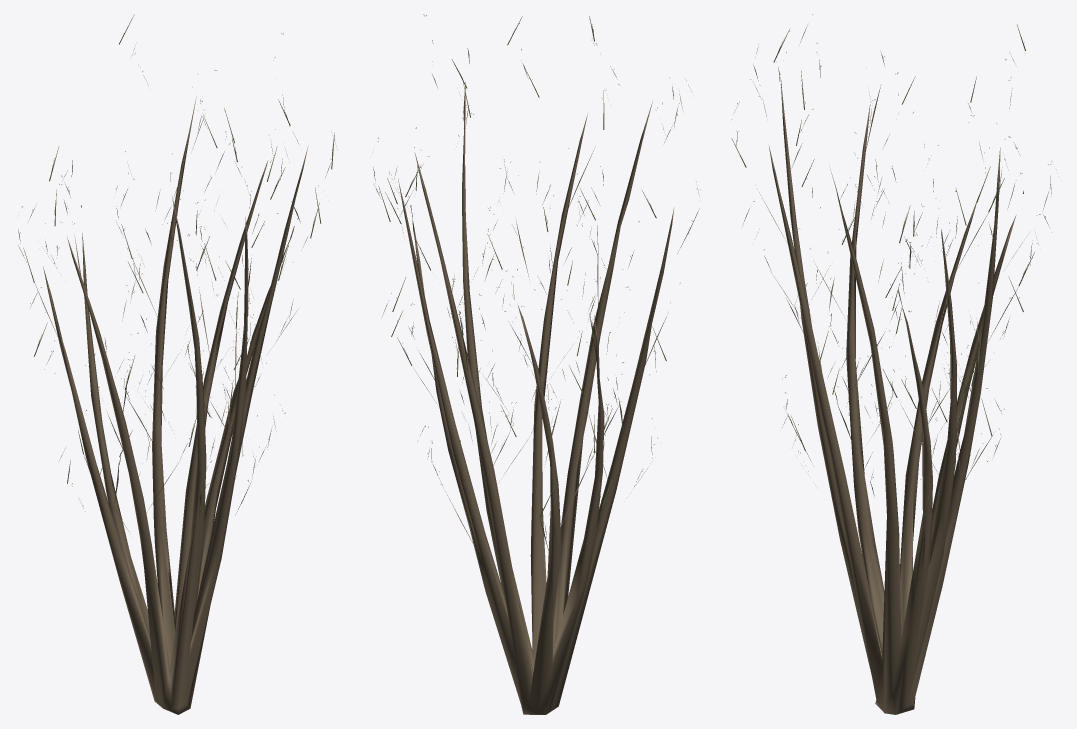
Rendered from Bruyere_1_Niveau2.fbx.
3 views of the same model, side by side, from view 1: azimuth 30°, elevation 25°; view 2: azimuth 150°, elevation 25°; view 3: azimuth 270°, elevation 25° (orthographic). The views are drawn at different scales.
Parts seen in each view (by area): view 1: Bruyere_1_Niveau2; view 2: Bruyere_1_Niveau2; view 3: Bruyere_1_Niveau2.
Part boxes in pixels (<box>): Bruyere_1_Niveau2: <box>18,14,335,714</box>; Bruyere_1_Niveau2: <box>373,14,700,714</box>; Bruyere_1_Niveau2: <box>731,14,1051,714</box>.
Bounding box in the file's own units: 135 × 277 × 120.
